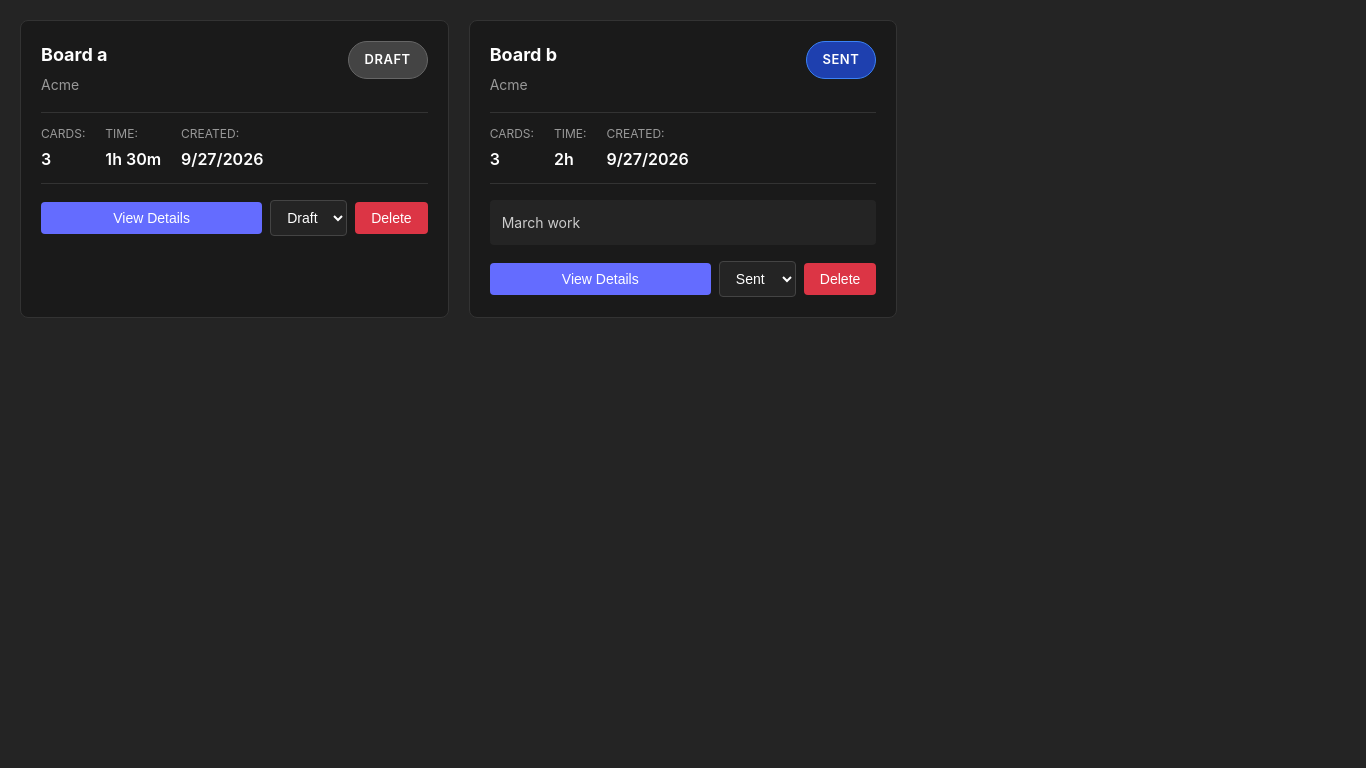
Scenario: InvoiceList › shows an error when deletion fails
Click the button "Delete" below "1h 30m": (391, 218) top-left (355, 202), bottom-right (428, 234)
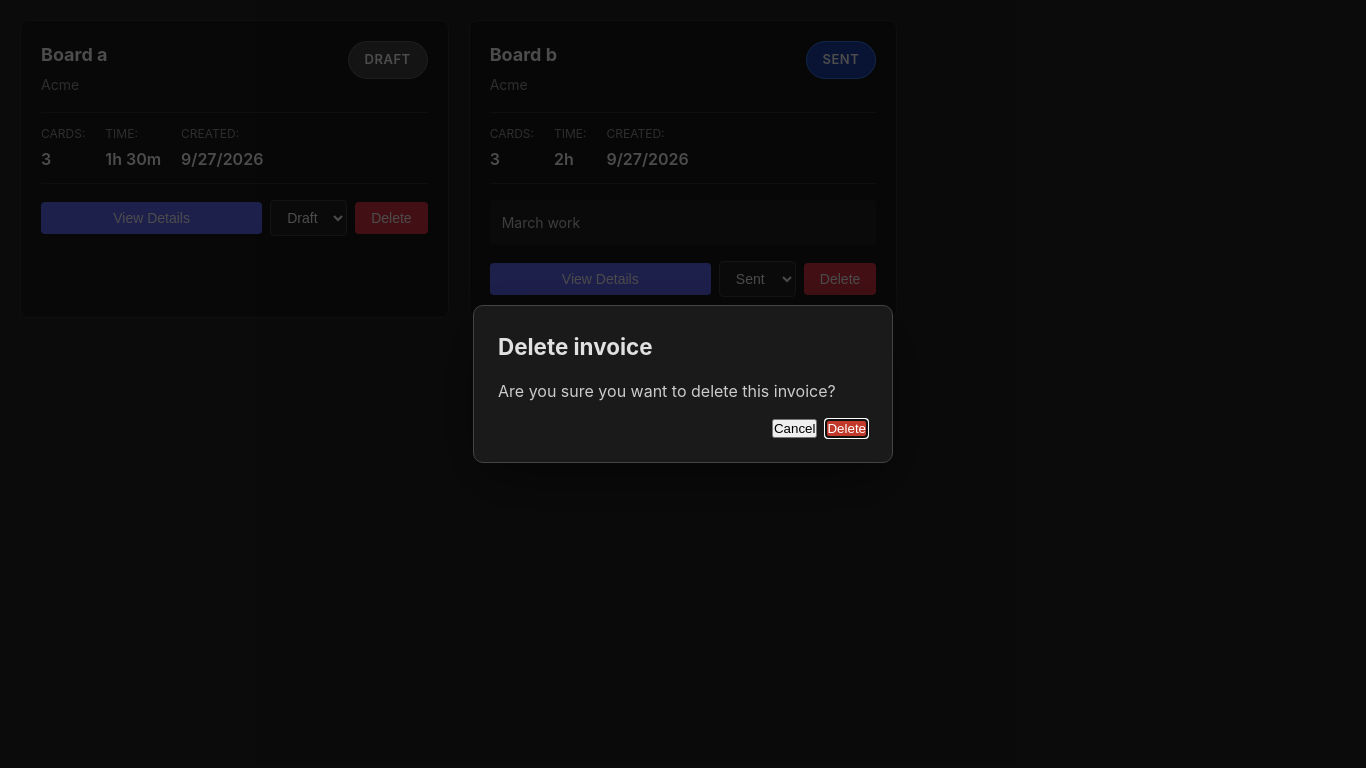
Click the button "Delete": (847, 429) top-left (826, 419), bottom-right (868, 438)
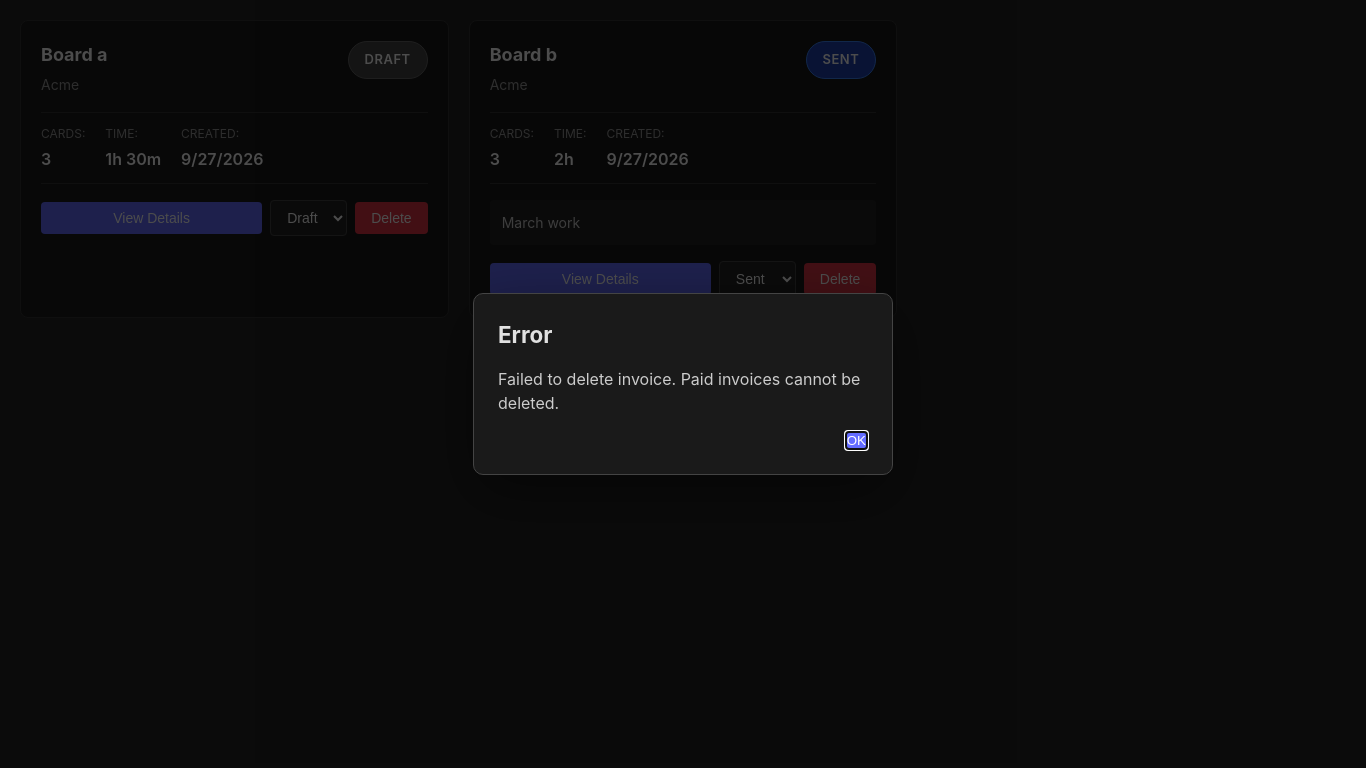
expect the button "Delete" is enabled: met, box top-left (355, 202), bottom-right (428, 234)
expect the dialog "Error" shows "Failed to delete invoice. Paid invoices cannot be deleted.": met, box top-left (498, 369), bottom-right (860, 413)
